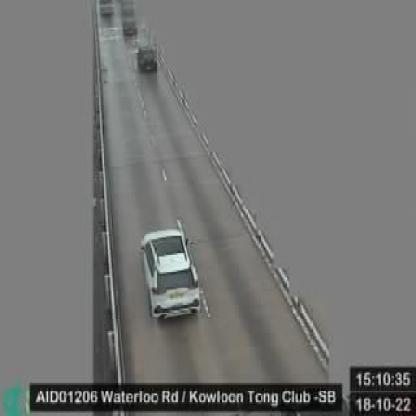Car: (139, 226, 202, 324), (134, 42, 158, 75), (122, 10, 140, 38)
